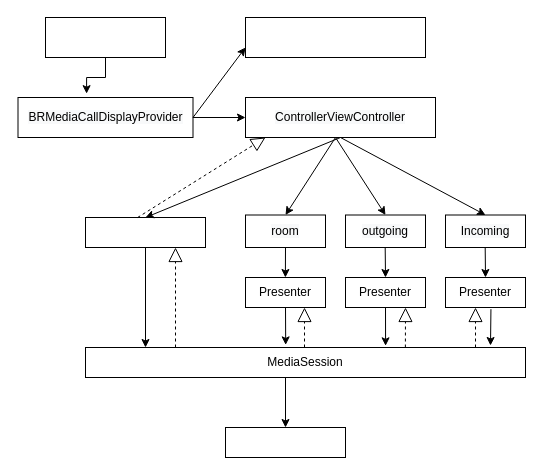
Image size: 543x475. Some labels were removed from this diagram. Each missing label, with the centre of its shape:
"BRMediaCallService" belongs at (x=105, y=37).
"ControlManager" belongs at (x=145, y=232).
"FloatingWindow" belongs at (x=335, y=37).
"RCSSession" belongs at (x=285, y=442).
